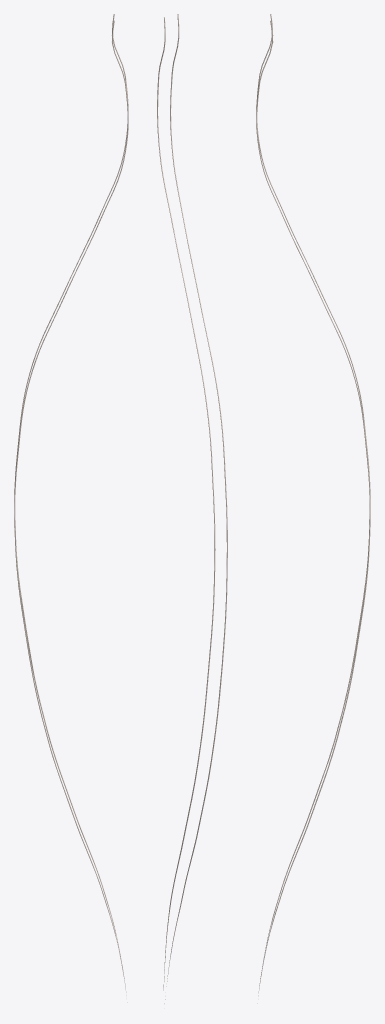
The model's file is nervoso-nucleus-proprius.glb.
3 views of the same model, side by side, from view 1: azimuth 90°, elevation 25°; view 2: azimuth 210°, elevation 25°; view 3: azimuth 270°, elevation 25° (orthographic).
Parts seen in each view (by area): view 1: Nucleus proprius; view 2: Nucleus proprius; view 3: Nucleus proprius.
Part boxes in pixels (left/top/right/bottom): Nucleus proprius: left=14, top=14, right=128, bottom=1002; Nucleus proprius: left=157, top=14, right=227, bottom=1003; Nucleus proprius: left=256, top=14, right=370, bottom=1003.
Size of the model in its own units: 0.00746 by 0.485 by 0.0507.
